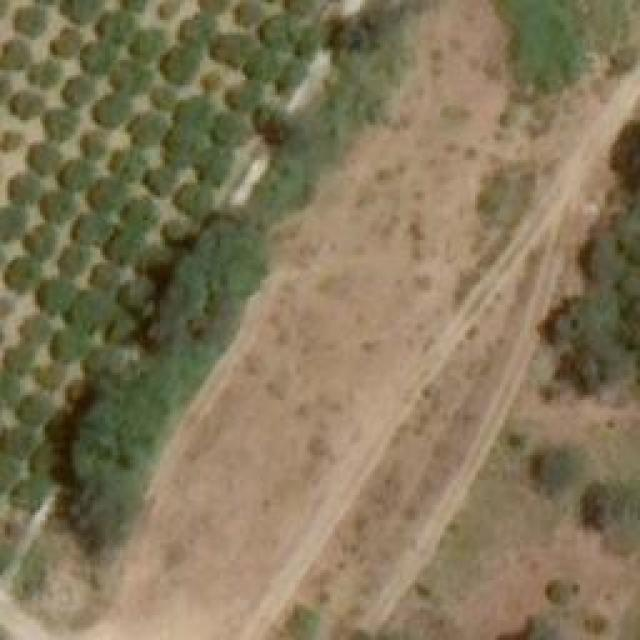Tree: (510, 5, 583, 83), (85, 345, 138, 400), (520, 445, 570, 490), (580, 488, 625, 531), (253, 103, 293, 146), (175, 98, 218, 133), (68, 293, 101, 338), (112, 60, 150, 95), (178, 182, 213, 220), (10, 477, 45, 515), (138, 242, 171, 280), (213, 33, 248, 68), (193, 150, 228, 183), (88, 178, 123, 211), (58, 243, 91, 278), (163, 48, 196, 81), (250, 48, 283, 81), (123, 198, 156, 231), (20, 225, 53, 258), (162, 132, 190, 170), (85, 40, 115, 75), (3, 428, 33, 463), (133, 30, 166, 60), (58, 163, 91, 193), (73, 215, 106, 245), (105, 230, 135, 263), (5, 38, 33, 73), (110, 148, 138, 181), (100, 12, 133, 40), (20, 393, 48, 426), (180, 15, 210, 45), (215, 115, 245, 145), (10, 175, 40, 205), (3, 258, 33, 288), (228, 82, 258, 110), (130, 115, 158, 145), (95, 95, 123, 125), (32, 143, 60, 173), (40, 278, 68, 308), (160, 220, 190, 248), (20, 315, 48, 345), (545, 580, 575, 608), (258, 18, 291, 43), (5, 343, 30, 376), (50, 333, 83, 358), (60, 0, 100, 20), (65, 77, 93, 105), (145, 167, 173, 195), (45, 110, 73, 138), (87, 262, 115, 290), (53, 30, 78, 60), (20, 5, 45, 35), (38, 193, 68, 218), (30, 60, 55, 88), (12, 93, 40, 116), (35, 365, 60, 390), (150, 85, 175, 108), (238, 0, 261, 25), (80, 133, 103, 156), (585, 615, 608, 635), (505, 430, 525, 448), (202, 72, 220, 90)
